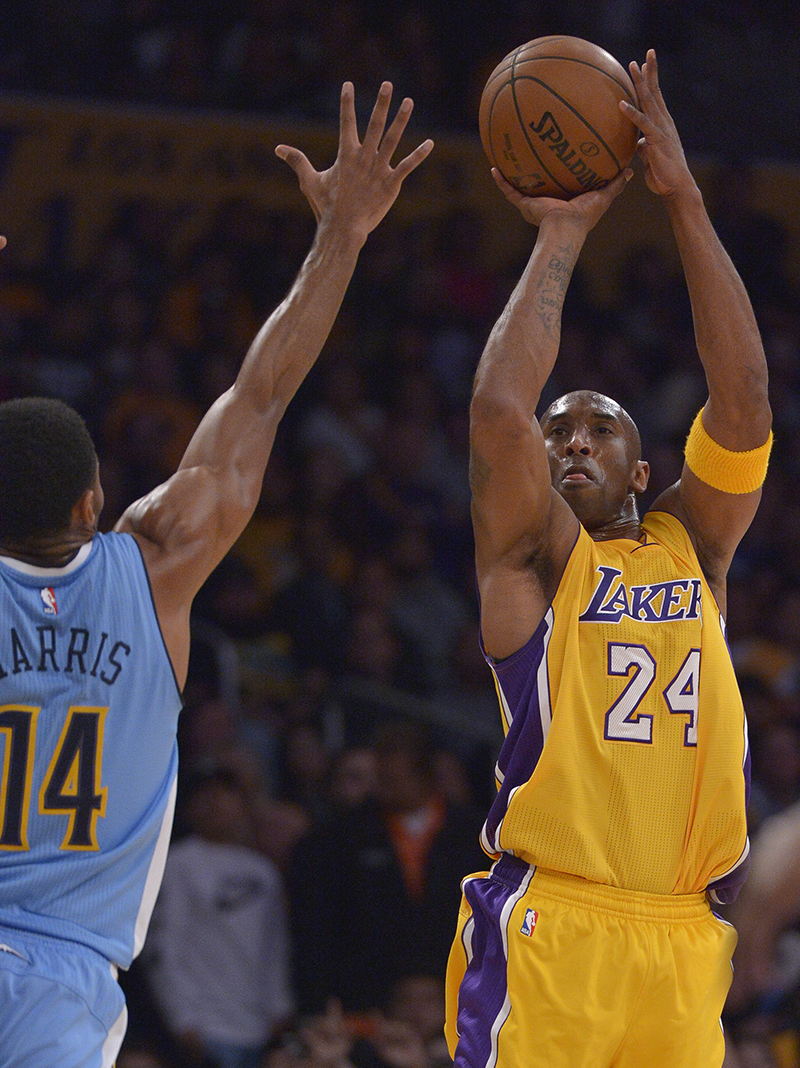Basketball: (472, 32, 640, 203)
